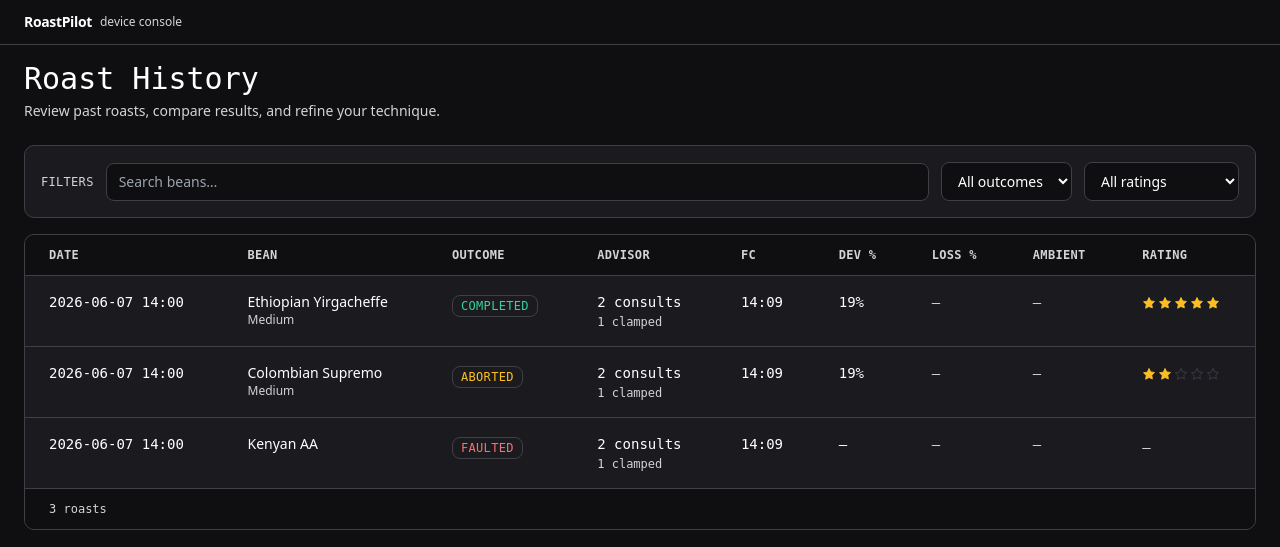
Test: HistoryPage › filters by outcome
Expected: the number of links with test id "history-row" is 3, [25, 276, 1255, 346]; [25, 346, 1255, 418]; [25, 418, 1255, 488]
Select "Faulted" in the dropdown named "Filter by outcome" at (1006, 182), box [941, 162, 1072, 201]
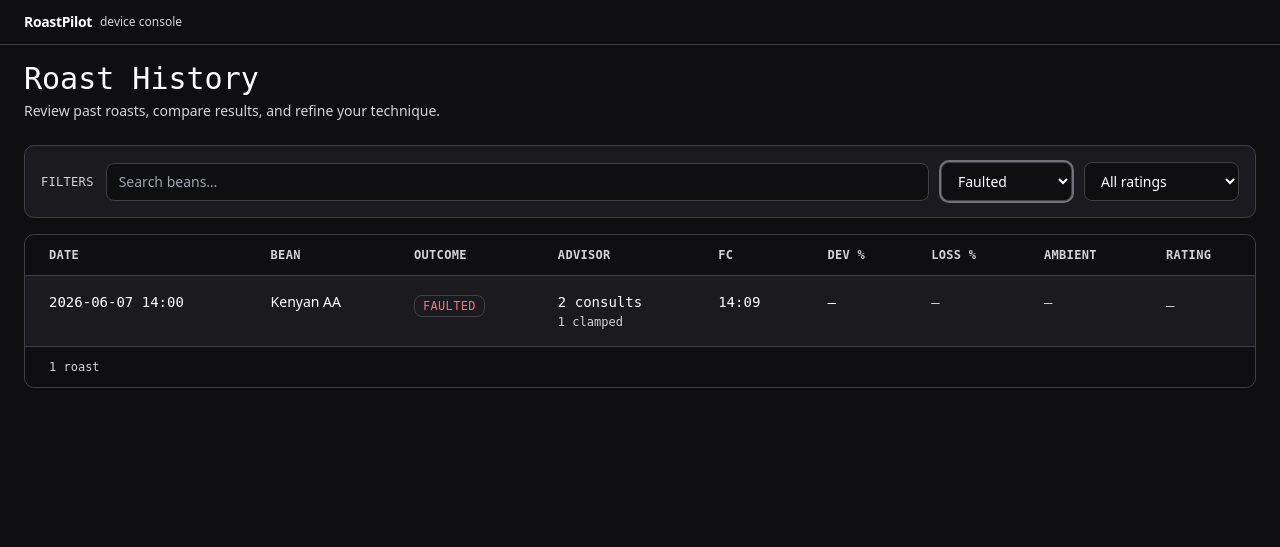
Expected: the number of links with test id "history-row" is 1, [25, 276, 1255, 346]
